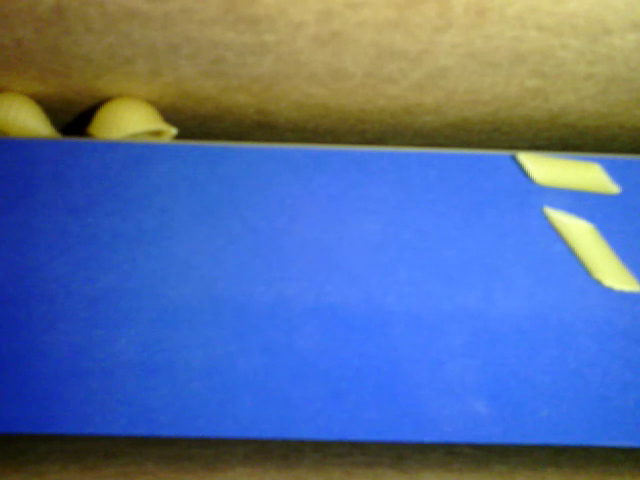penne: (541, 203, 634, 292), (516, 150, 627, 197)
shell: (92, 98, 181, 141), (1, 85, 68, 142)
